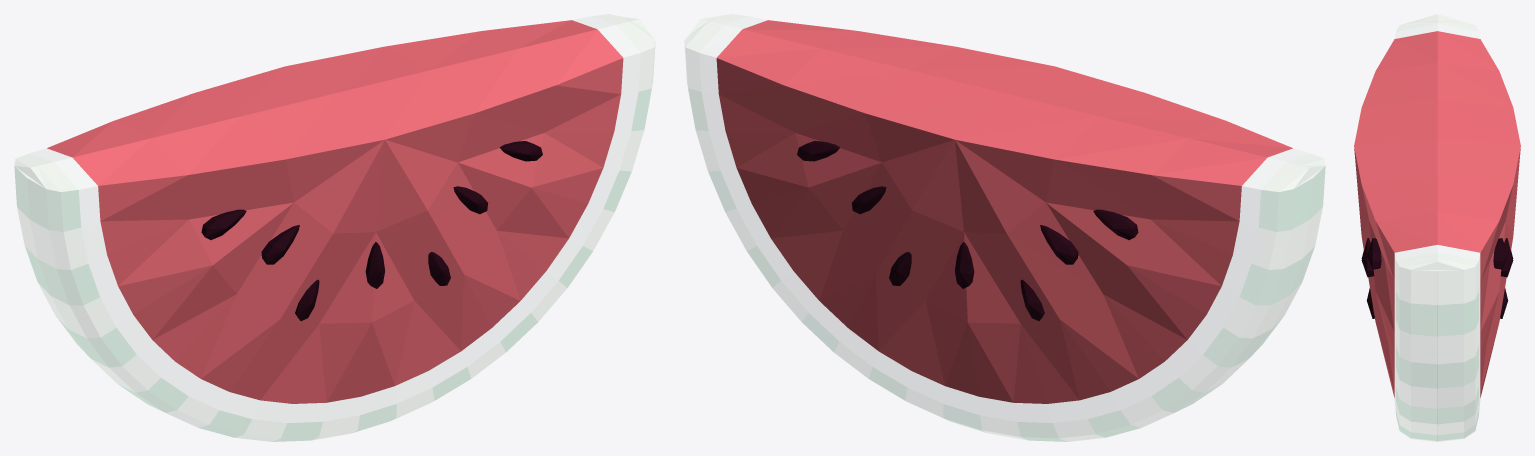
File: crystal-watermelon.glb
3 renders of one model, left to right at view 1: azimuth 30°, elevation 25°; view 2: azimuth 150°, elevation 25°; view 3: azimuth 270°, elevation 25°, orthographic. The views are drawn at different scales.
Visible parts, largest first — view 1: Crystal_Watermelon; view 2: Crystal_Watermelon; view 3: Crystal_Watermelon.
Boxes of the visible parts, x1,y1,x2,y2 form: Crystal_Watermelon: (14, 14, 655, 441); Crystal_Watermelon: (684, 14, 1325, 441); Crystal_Watermelon: (1354, 14, 1520, 441).
Bounding box in the file's own units: 2.34 × 1.21 × 0.66.
